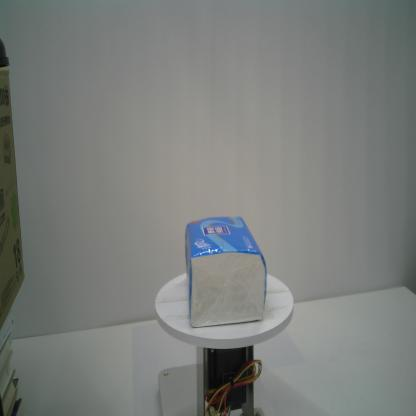Tissue: (184, 215, 268, 330)
